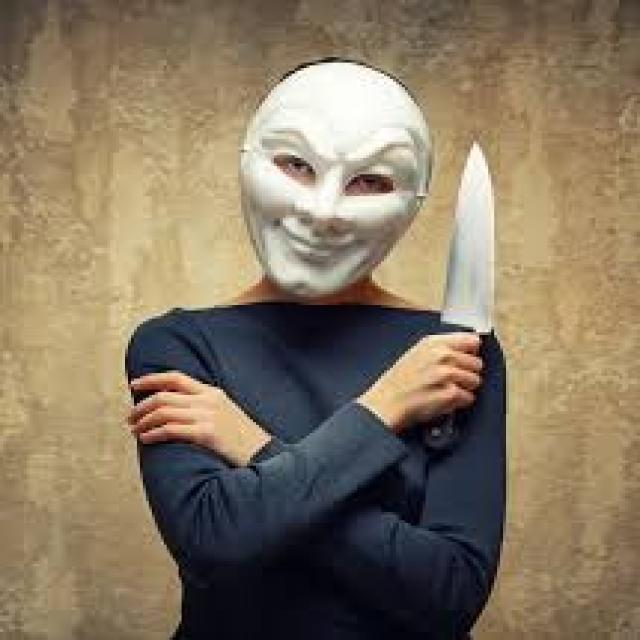faca: (399, 114, 536, 454)
